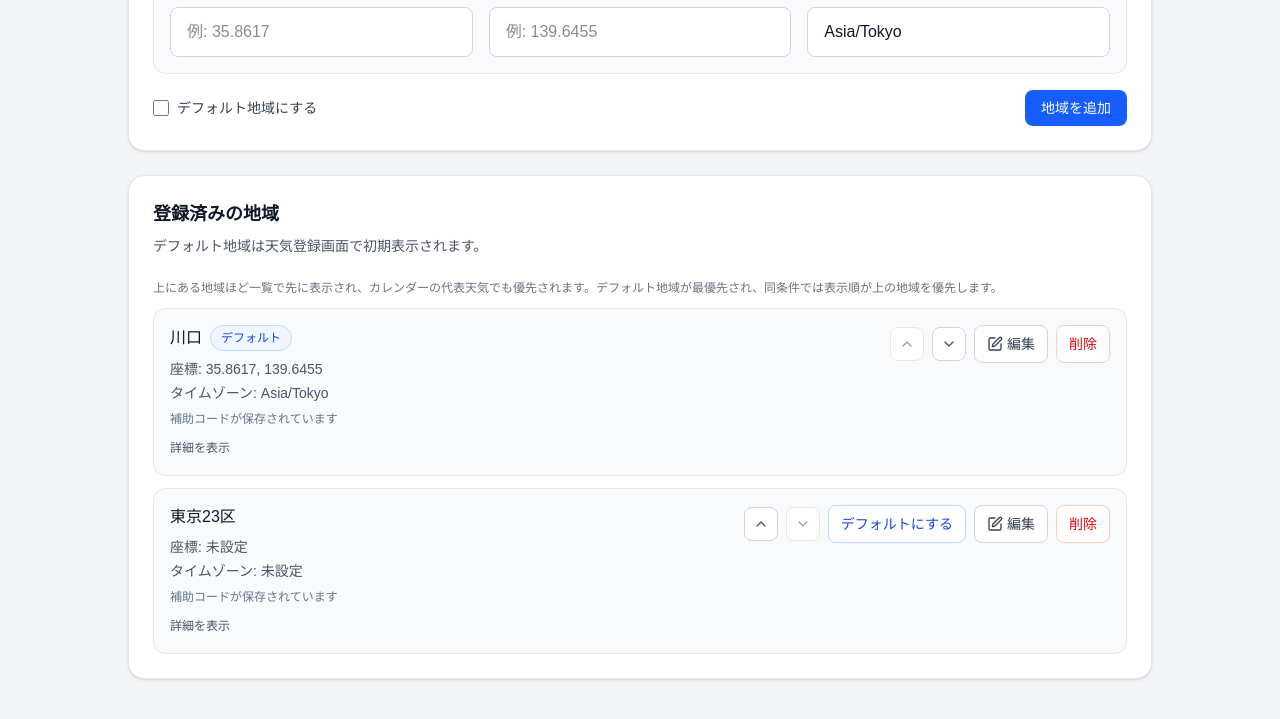
Test: SettingsWeatherLocationsPage › 一覧カードの補助コード詳細を開閉できる
(page scrolled)
Click the button with test id "weather-location-legacy-toggle-2" at (200, 626), box x1=170 y1=618 x2=230 y2=634
(page scrolled)
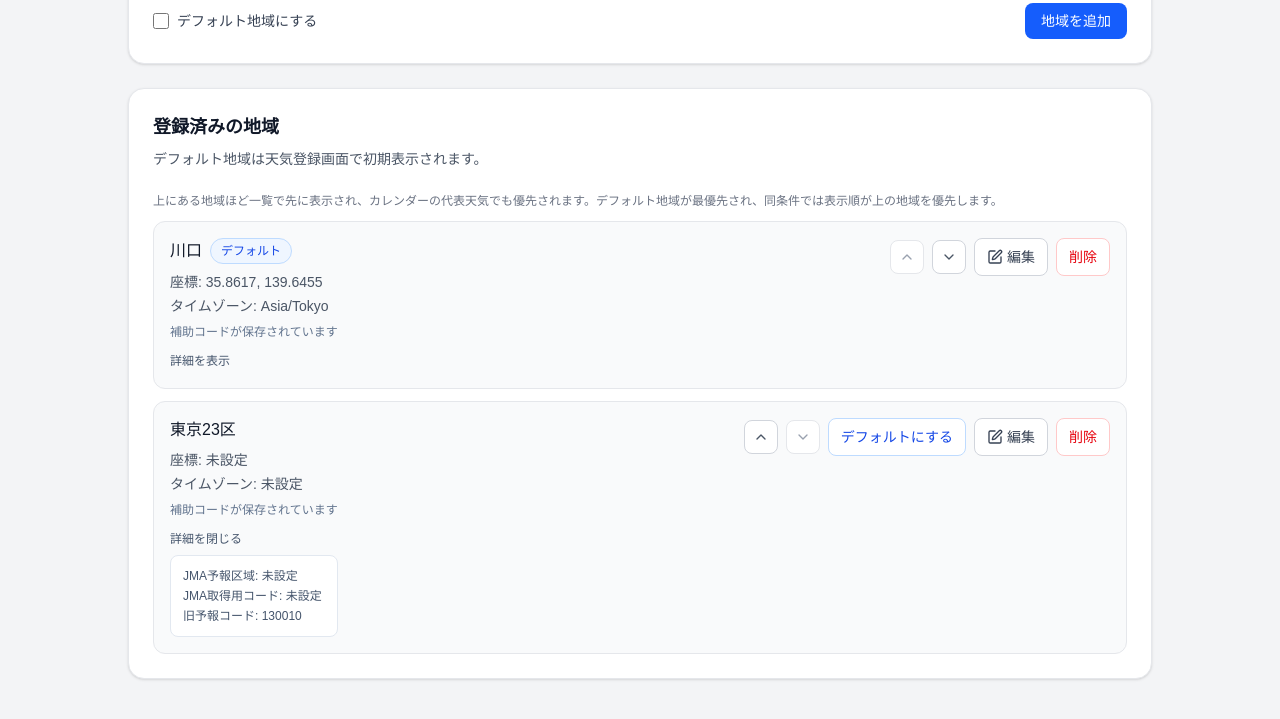
Expected: the text "補助コードが保存されています" is shown, x1=170 y1=324 x2=338 y2=340
Now the element with test id "weather-location-legacy-details-2" is shown, box x1=170 y1=555 x2=338 y2=637
Now the text "旧予報コード: 130010" is shown, box x1=183 y1=609 x2=302 y2=623
